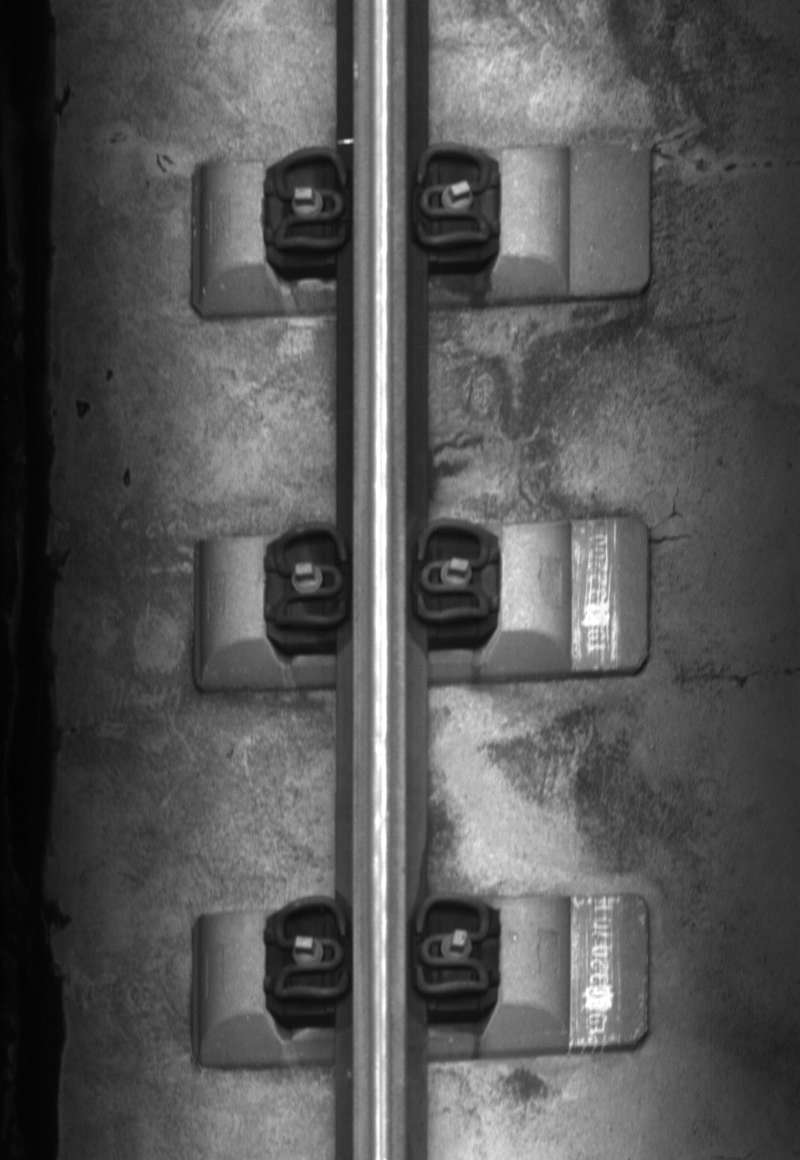l_faster: (269, 892, 351, 1009), (268, 520, 352, 633), (268, 143, 351, 256)
r_faster: (411, 515, 496, 627), (411, 891, 494, 1002), (412, 141, 493, 249)
